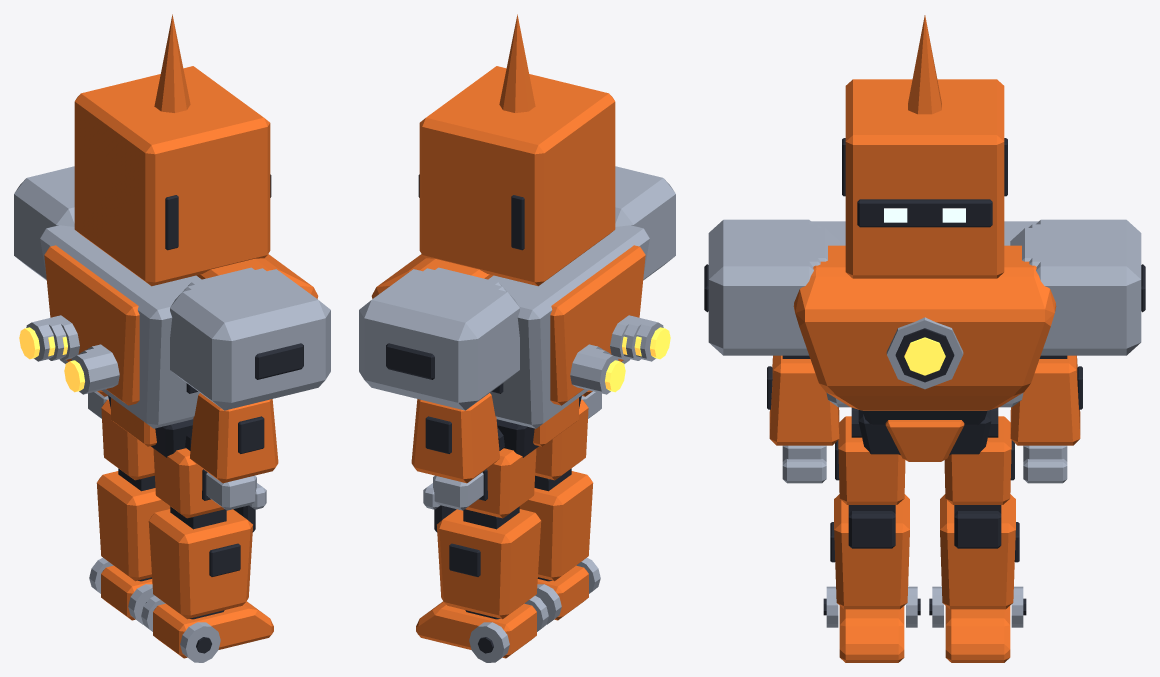
The model's file is light.glb.
The picture shows the model from 3 angles, left to right: view 1: azimuth 30°, elevation 25°; view 2: azimuth 150°, elevation 25°; view 3: azimuth 270°, elevation 25°; orthographic projection.
Parts seen in each view (by area): view 1: Chest_heavy, Head, Leg_R, Leg_L, Forearm_R, Chest_standard, Hips, Chest_light; view 2: Chest_heavy, Head, Leg_L, Leg_R, Forearm_L, Chest_standard, Hips, Chest_light; view 3: Chest_heavy, Head, Leg_L, Leg_R, Forearm_L, Forearm_R, Chest_standard, Hips, Chest_light.
Boxes of the visible parts, x1,y1,x2,y2 form: Chest_heavy: (14,166,330,428); Head: (74,14,271,286); Leg_R: (141,427,273,662); Leg_L: (89,399,170,624); Forearm_R: (190,393,278,510); Chest_standard: (48,179,295,360); Hips: (108,395,193,457); Chest_light: (61,192,254,360); Chest_heavy: (359,166,675,428); Head: (418,14,615,286); Leg_L: (416,427,548,662); Leg_R: (519,399,600,624); Forearm_L: (411,393,499,510); Chest_standard: (394,179,641,360); Hips: (496,395,581,457); Chest_light: (418,192,628,360); Chest_heavy: (704,219,1145,425); Head: (842,15,1007,278); Leg_L: (929,407,1026,662); Leg_R: (823,407,920,662); Forearm_L: (1010,355,1082,483); Forearm_R: (767,355,839,483); Chest_standard: (750,224,1099,266); Hips: (858,410,991,461); Chest_light: (817,228,1032,261).
Size of the model in its own units: 0.874 by 2.33 by 1.5.
